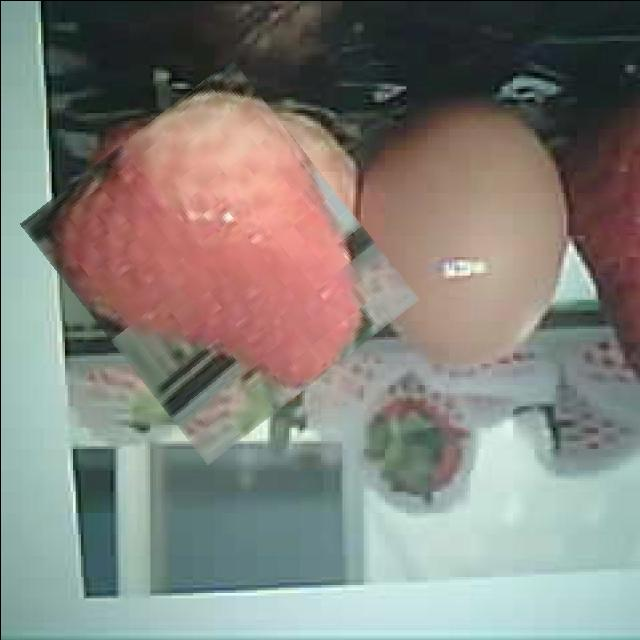strawberry: (52, 83, 386, 439)
